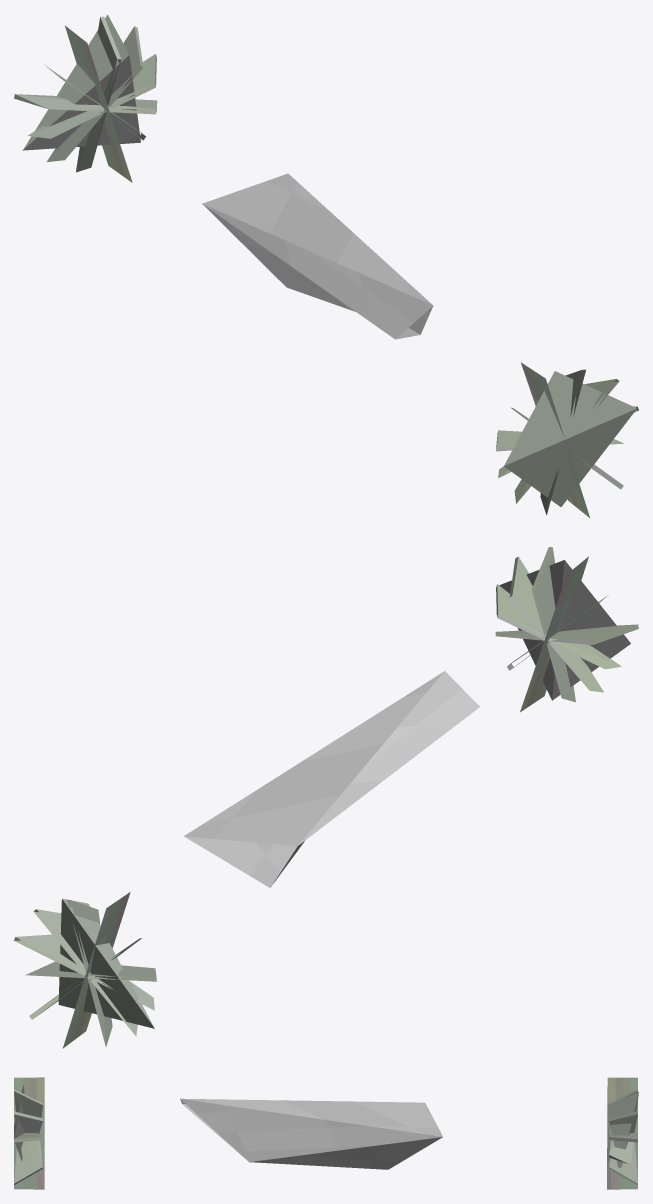
The model's file is sbzz003-geode.glb.
3 renders of one model, top to bottom at view 1: azimuth 30°, elevation 25°; view 2: azimuth 150°, elevation 25°; view 3: azimuth 270°, elevation 25°, orthographic. The views are drawn at different scales.
Visible parts, largest first — view 1: Node; view 2: Node; view 3: Node.
Boxes of the visible parts, left/top/right/bottom form: Node: left=14, top=14, right=638, bottom=517; Node: left=14, top=547, right=638, bottom=1048; Node: left=14, top=1077, right=638, bottom=1189.
Bounding box in the file's own units: 0.423 × 0.4278 × 2.47.
Materials: 1 (1 with a texture image).
